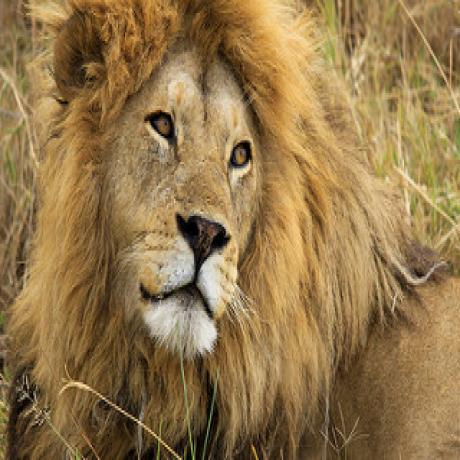Lion: (13, 0, 460, 460)
